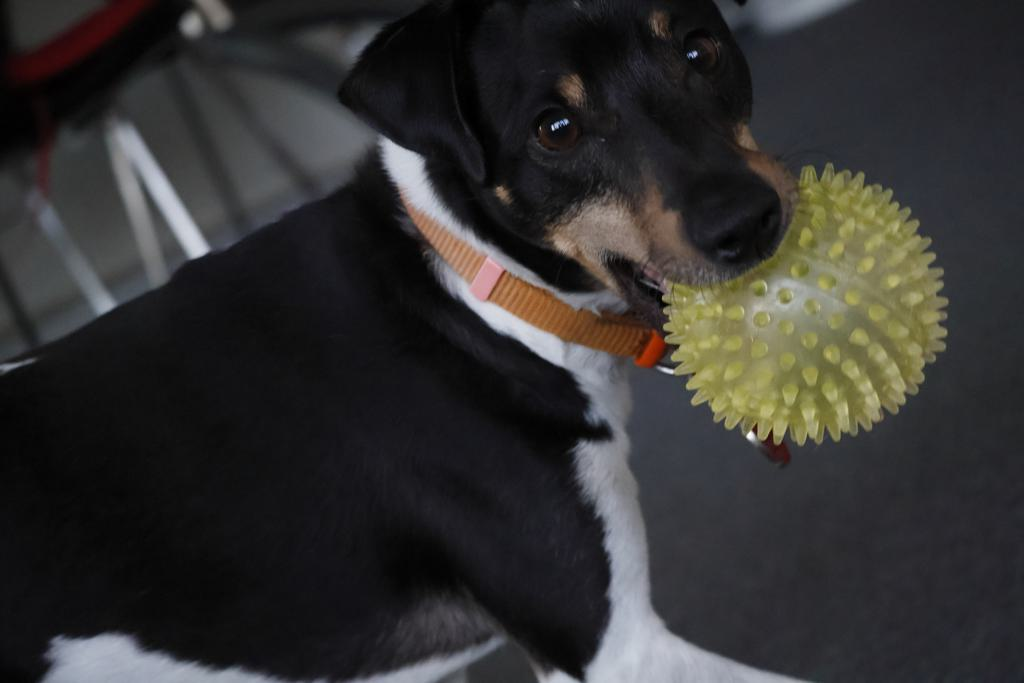Dog: (0, 0, 837, 683)
